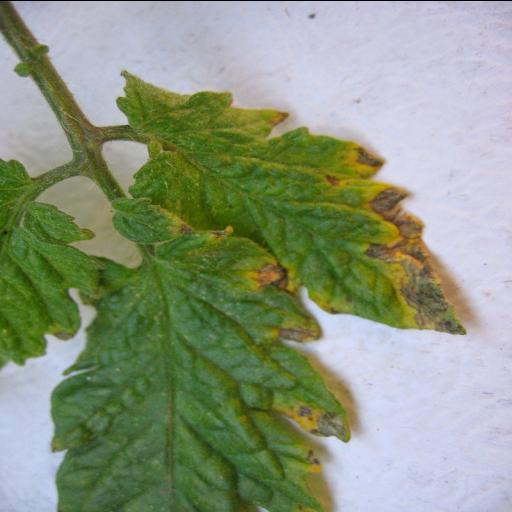disease_tomato: (115, 72, 467, 338), (45, 228, 351, 512)
